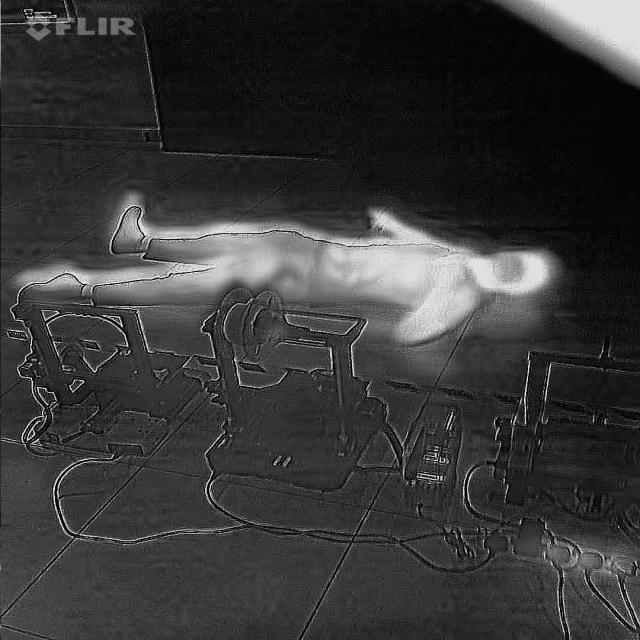Victim: (7, 190, 554, 344)
